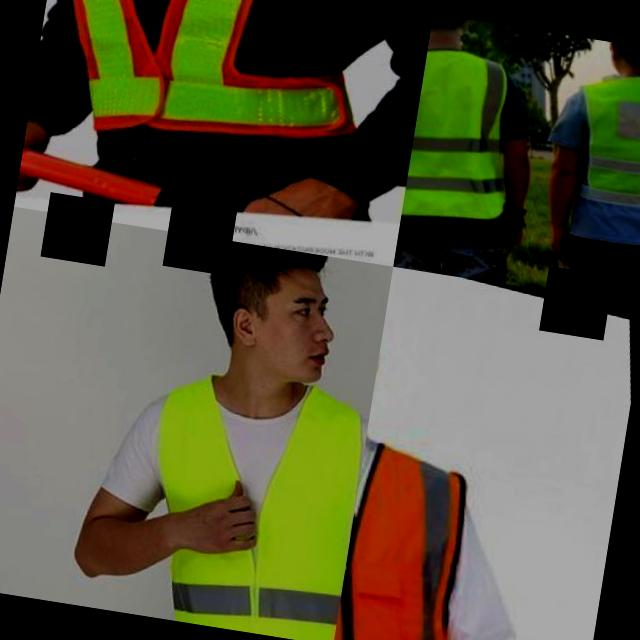vest: (123, 334, 377, 640), (23, 0, 389, 199), (333, 410, 526, 640), (398, 32, 540, 250), (559, 44, 640, 247)
